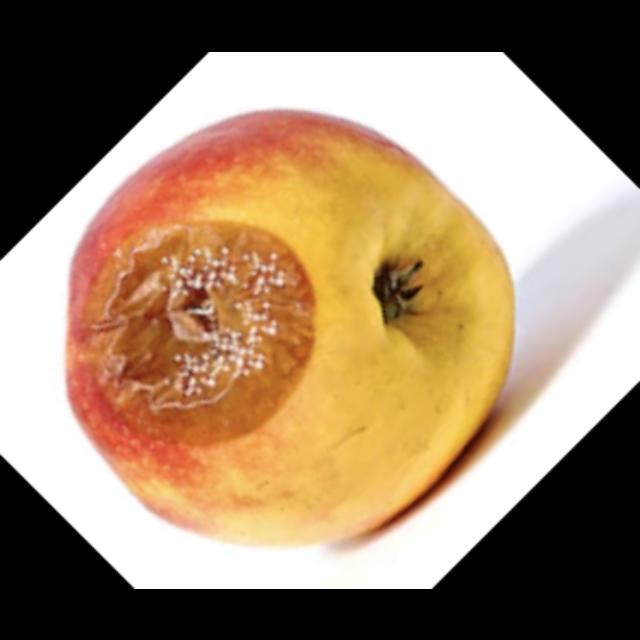Apel Segar: (154, 100, 516, 546)
Apel Tidak Segar: (63, 185, 350, 499)
